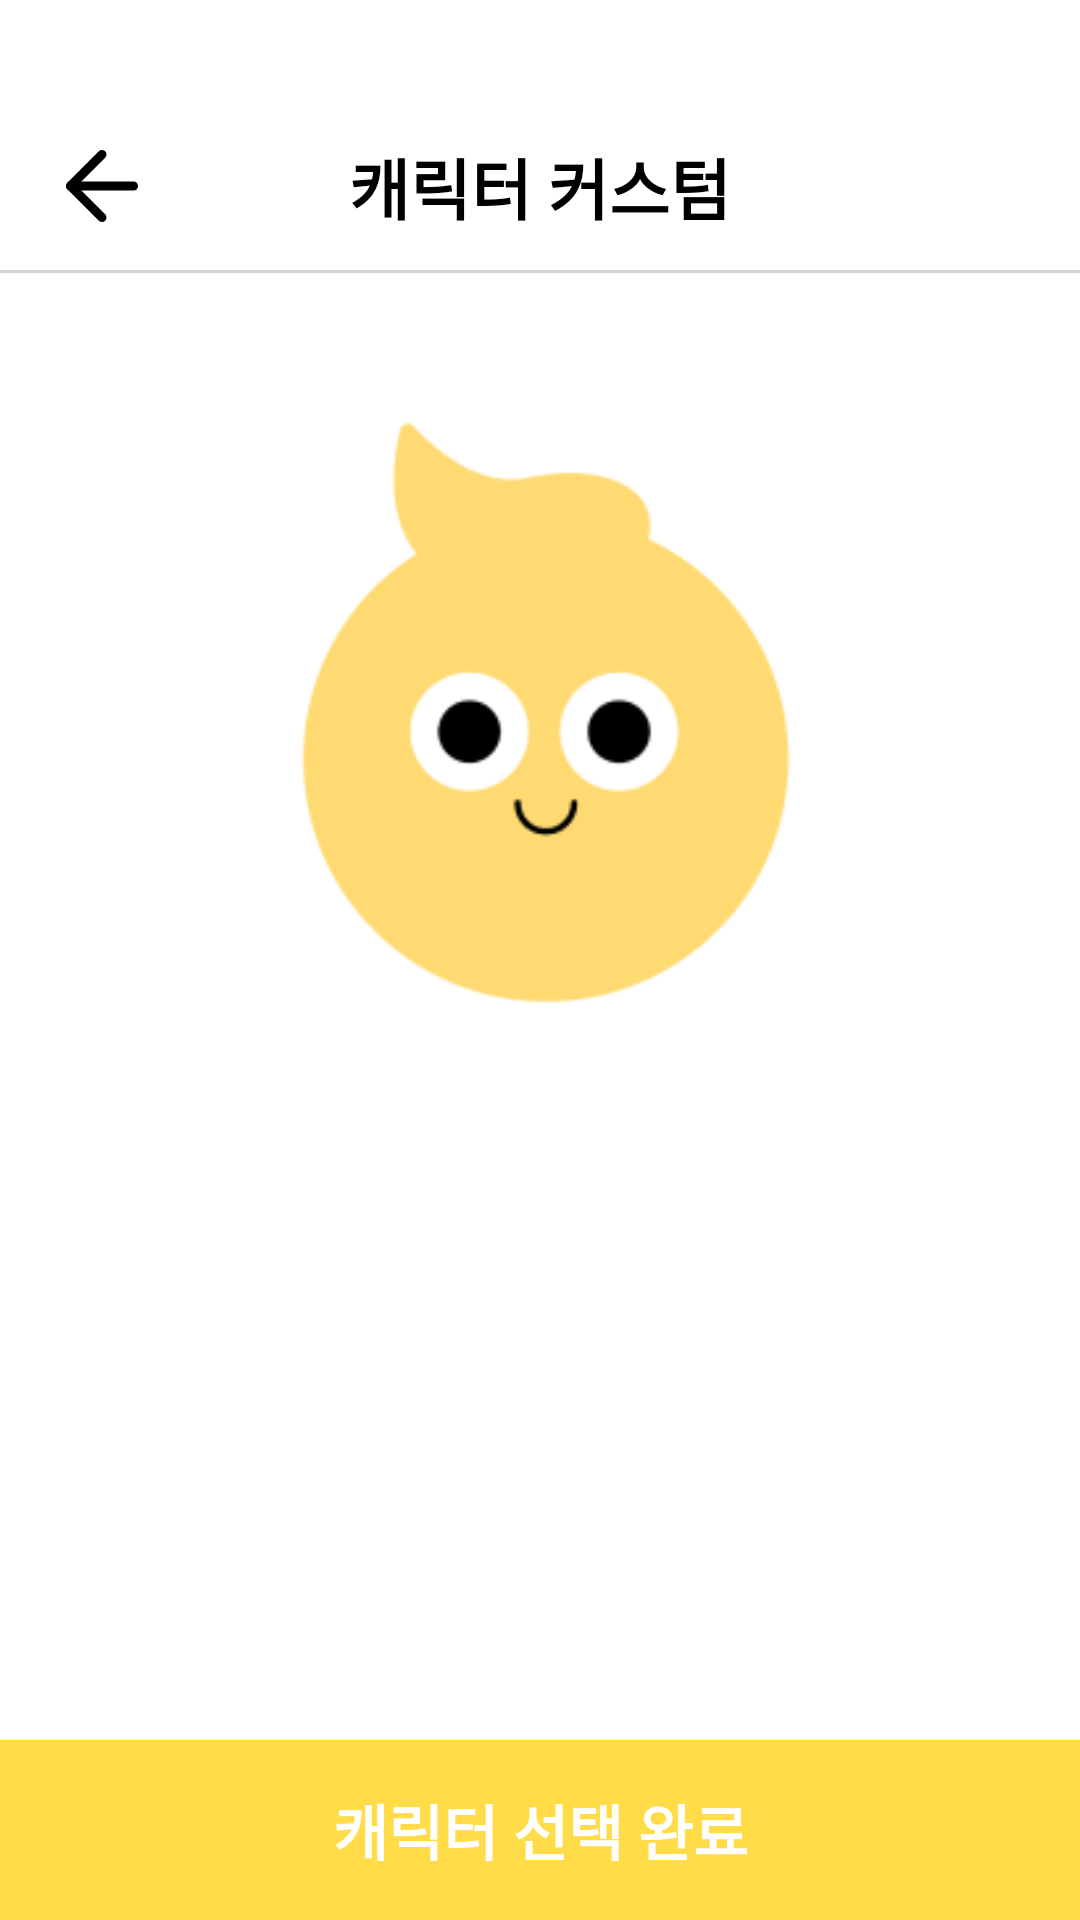

Named icons in this screenshot (1080×1920) and their centers, (x,y):
back: (102,186)
